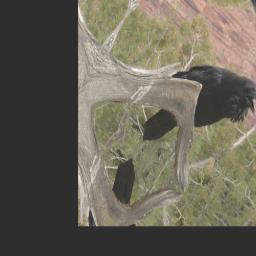Crow: (135, 29, 256, 199)
